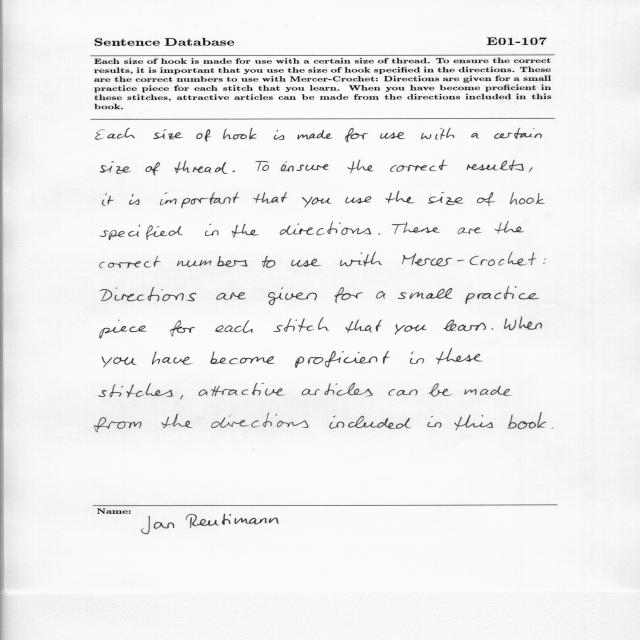word: (402, 252, 536, 267), (295, 351, 390, 368), (211, 412, 309, 428), (100, 287, 196, 301), (160, 192, 240, 208), (466, 287, 540, 304), (100, 225, 183, 240), (280, 222, 371, 235), (198, 383, 286, 396), (99, 383, 173, 398), (329, 416, 411, 429), (302, 383, 373, 396), (100, 320, 147, 339), (268, 287, 317, 305), (210, 352, 275, 365), (274, 317, 329, 332), (177, 256, 247, 267), (436, 348, 483, 364), (95, 417, 142, 433), (100, 256, 161, 268), (390, 160, 448, 172), (175, 161, 228, 174), (508, 412, 547, 429), (340, 252, 382, 267), (467, 160, 524, 171), (398, 288, 452, 299), (454, 415, 493, 430), (392, 222, 440, 234), (152, 352, 193, 365), (494, 128, 542, 139), (281, 161, 329, 172), (345, 319, 382, 333), (215, 320, 253, 333), (504, 317, 542, 330), (464, 386, 512, 396), (443, 320, 486, 331), (96, 128, 135, 140), (428, 192, 464, 205), (335, 287, 363, 303), (162, 414, 193, 428), (170, 320, 195, 337), (510, 192, 545, 204), (100, 161, 131, 174), (421, 128, 454, 140), (102, 357, 137, 368), (232, 224, 259, 238), (495, 221, 524, 234), (223, 128, 257, 139), (254, 192, 288, 203), (395, 324, 427, 335), (386, 191, 415, 203), (348, 160, 374, 173), (429, 383, 453, 397), (153, 129, 183, 140), (302, 197, 332, 208), (345, 128, 368, 142), (298, 130, 333, 139), (477, 192, 495, 206), (291, 259, 321, 267), (216, 292, 246, 300), (389, 389, 418, 396), (196, 129, 211, 142), (145, 162, 160, 175), (346, 197, 372, 204), (410, 351, 424, 364), (380, 132, 405, 139), (457, 227, 482, 234), (262, 256, 276, 268), (428, 416, 442, 428), (102, 193, 114, 206), (205, 224, 218, 236), (255, 161, 269, 171), (129, 194, 139, 205), (274, 130, 284, 140), (376, 291, 385, 299), (471, 133, 479, 139), (529, 168, 533, 173), (543, 259, 546, 264), (180, 395, 183, 400), (378, 233, 380, 235), (492, 328, 494, 330), (233, 171, 235, 172), (552, 428, 553, 429)
